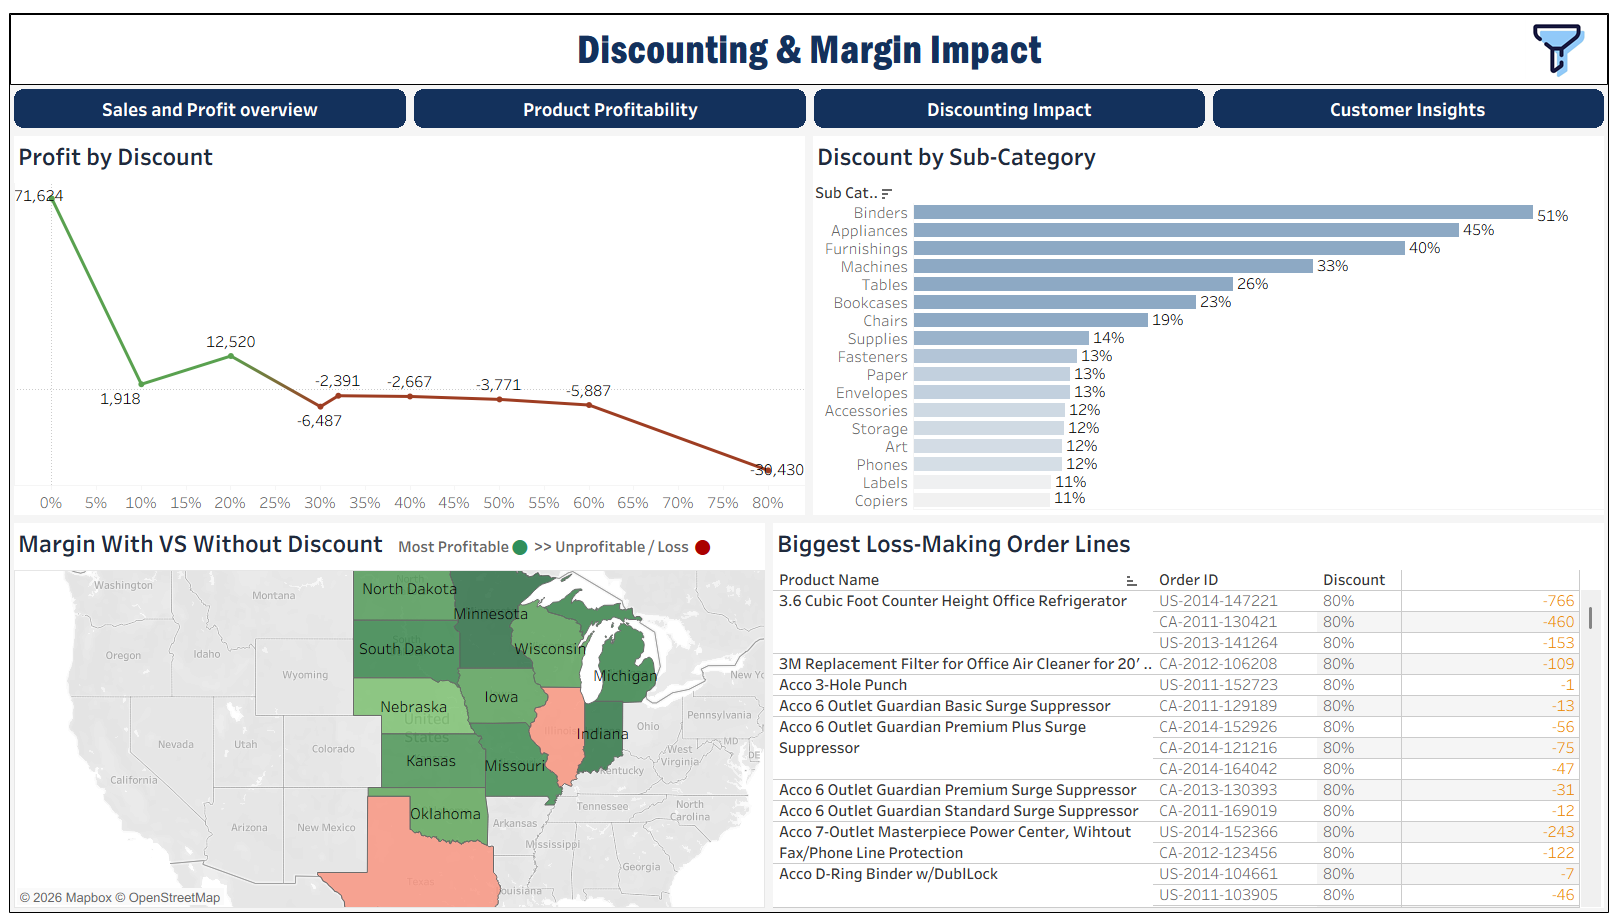

Layout of this report page (visuals, bound fields, positions):
{"tool":"tableau","page":{"name":"Discounting & Margin Impact","canvas":[1600,900],"ordinal":1},"visuals":[{"type":"text","box":[2,2,1596,69]},{"type":"dashboard-object","box":[1506.7,3.4,80,63]},{"type":"dashboard-object","box":[1,72,400,47]},{"type":"dashboard-object","box":[401,72,400,47]},{"type":"dashboard-object","box":[801,72,399,47]},{"type":"dashboard-object","box":[1200,72,399,47]},{"type":"blank","box":[1308,80.6,280,35]},{"type":"text","box":[1308,115.6,280,38]},{"type":"worksheet","title":"Profit by Discount","mark":"Automatic","rows":["Profit"],"cols":["Discount"],"box":[1,119,799,387]},{"type":"worksheet","title":"Discount by Sub-Category","mark":"Automatic","rows":["SubCategory"],"cols":["Discount"],"box":[800,119,799,387]},{"type":"parameter","param":"[Parameters].[Parameter 1773839578595330]","box":[1308,153.6,280,56]},{"type":"filter","title":"Profit by Discount","param":"[federated.0opk25x1w8ugs31a36b841grpmjb].[none:Segment:nk]","box":[1308,209.6,280,64]},{"type":"filter","title":"Profit by Discount","param":"[federated.0opk25x1w8ugs31a36b841grpmjb].[none:ShipMode:nk]","box":[1308,273.6,280,100]},{"type":"text","box":[1308,373.6,280,37]},{"type":"filter","title":"Profit by Discount","param":"[federated.0opk25x1w8ugs31a36b841grpmjb].[none:Category:nk]","box":[1308,410.6,280,61]},{"type":"filter","title":"Profit by Discount","param":"[federated.0opk25x1w8ugs31a36b841grpmjb].[none:SubCategory:nk]","box":[1308,471.6,280,100]},{"type":"worksheet","title":"Margin With VS Without Discount ","mark":"Multipolygon","box":[1,506,759,393]},{"type":"worksheet","title":"Biggest Loss-Making Order Lines","mark":"Automatic","rows":["ProductName","OrderID","Discount"],"box":[760,506,838.9,393]},{"type":"text","box":[1308,571.6,280,32]},{"type":"filter","title":"Profit by Discount","param":"[federated.0opk25x1w8ugs31a36b841grpmjb].[none:State:nk]","box":[1308,603.6,280,61]},{"type":"filter","title":"Profit by Discount","param":"[federated.0opk25x1w8ugs31a36b841grpmjb].[none:City:nk]","box":[1308,664.6,280,61]}]}

Visuals, with their boxes in screenshot pixels (x1, y1, x2, y2), scaled from the page's 1600x900 canvas onto the 1616x922 screenshot:
text: pyautogui.locateOnScreen(2, 2, 1614, 73)
dashboard-object: pyautogui.locateOnScreen(1522, 3, 1603, 68)
dashboard-object: pyautogui.locateOnScreen(1, 74, 405, 122)
dashboard-object: pyautogui.locateOnScreen(405, 74, 809, 122)
dashboard-object: pyautogui.locateOnScreen(809, 74, 1212, 122)
dashboard-object: pyautogui.locateOnScreen(1212, 74, 1615, 122)
blank: pyautogui.locateOnScreen(1321, 83, 1604, 118)
text: pyautogui.locateOnScreen(1321, 118, 1604, 157)
"Profit by Discount" worksheet: pyautogui.locateOnScreen(1, 122, 808, 518)
"Discount by Sub-Category" worksheet: pyautogui.locateOnScreen(808, 122, 1615, 518)
parameter: pyautogui.locateOnScreen(1321, 157, 1604, 215)
"Profit by Discount" filter: pyautogui.locateOnScreen(1321, 215, 1604, 280)
"Profit by Discount" filter: pyautogui.locateOnScreen(1321, 280, 1604, 383)
text: pyautogui.locateOnScreen(1321, 383, 1604, 421)
"Profit by Discount" filter: pyautogui.locateOnScreen(1321, 421, 1604, 483)
"Profit by Discount" filter: pyautogui.locateOnScreen(1321, 483, 1604, 586)
"Margin With VS Without Discount " worksheet (Multipolygon marks): pyautogui.locateOnScreen(1, 518, 768, 921)
"Biggest Loss-Making Order Lines" worksheet: pyautogui.locateOnScreen(768, 518, 1615, 921)
text: pyautogui.locateOnScreen(1321, 586, 1604, 618)
"Profit by Discount" filter: pyautogui.locateOnScreen(1321, 618, 1604, 681)
"Profit by Discount" filter: pyautogui.locateOnScreen(1321, 681, 1604, 743)
